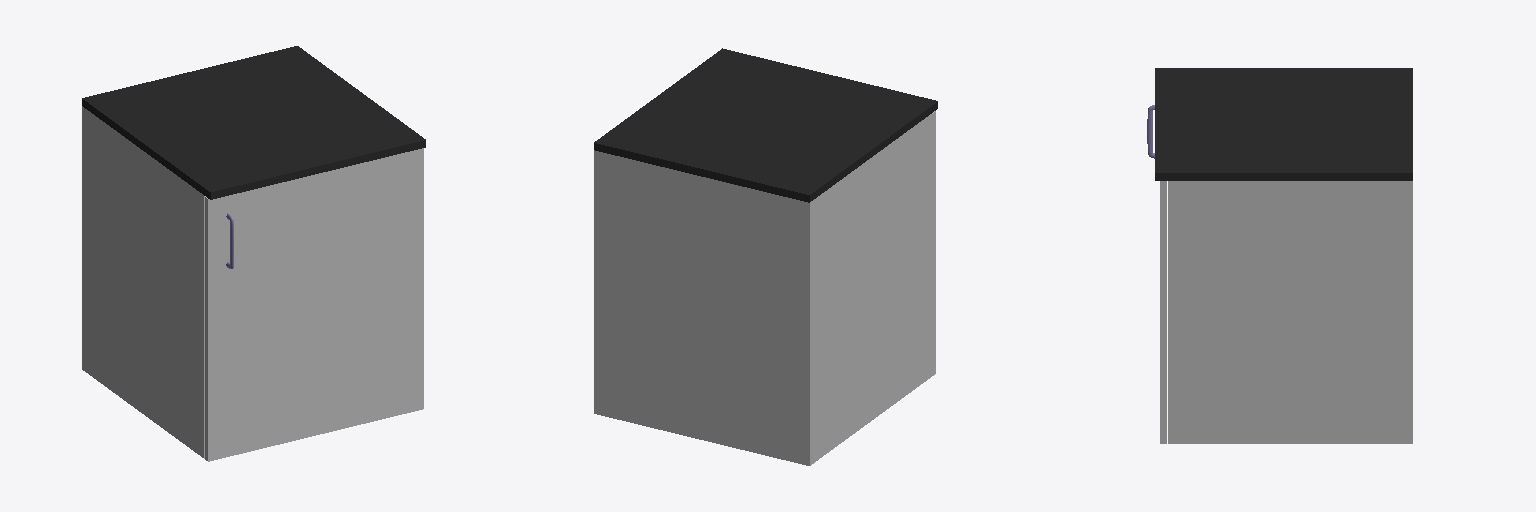
Rendered from Cabinet.obj.
The picture shows the model from 3 angles: view 1: azimuth 30°, elevation 25°; view 2: azimuth 150°, elevation 25°; view 3: azimuth 270°, elevation 25°; orthographic projection.
Visible parts, largest first — view 1: CabinetDoor_Cabinet1_Door, Cabinet, Countertop_Countertop1; view 2: Cabinet, Countertop_Countertop1, CabinetDoor_Cabinet1_Door; view 3: Cabinet, Countertop_Countertop1, CabinetDoor_Cabinet1_Door.
Boxes of the visible parts, x1,y1,x2,y2 form: CabinetDoor_Cabinet1_Door: [205, 148, 423, 461]; Cabinet: [82, 106, 204, 458]; Countertop_Countertop1: [82, 46, 425, 199]; Cabinet: [594, 114, 931, 465]; Countertop_Countertop1: [594, 48, 937, 202]; CabinetDoor_Cabinet1_Door: [932, 111, 935, 375]; Cabinet: [1168, 181, 1412, 443]; Countertop_Countertop1: [1155, 68, 1412, 180]; CabinetDoor_Cabinet1_Door: [1160, 181, 1166, 443].
Bounding box in the file's own units: 0.6 × 0.72 × 0.6386.